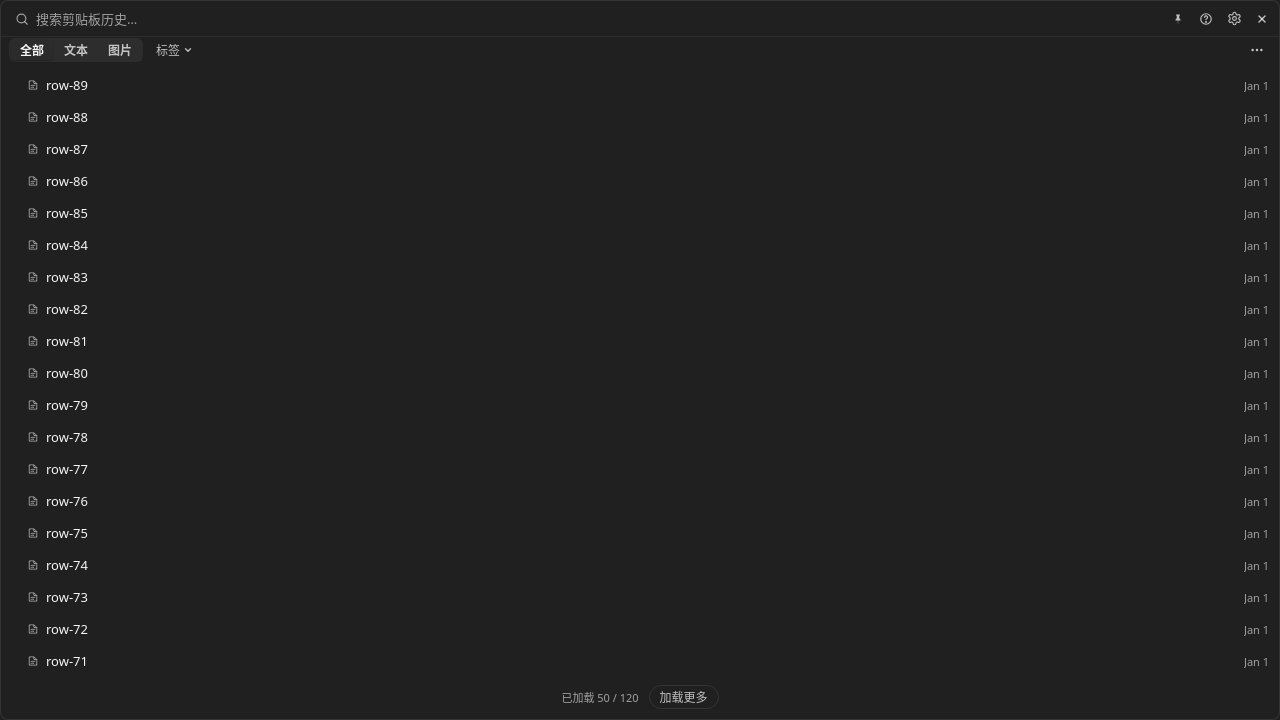
live history list › restarts an in-flight next page at the updated offset
(page scrolled)
Click the button "加载更多".
click(684, 697)  # box x1=649 y1=685 x2=719 y2=709
(page scrolled)
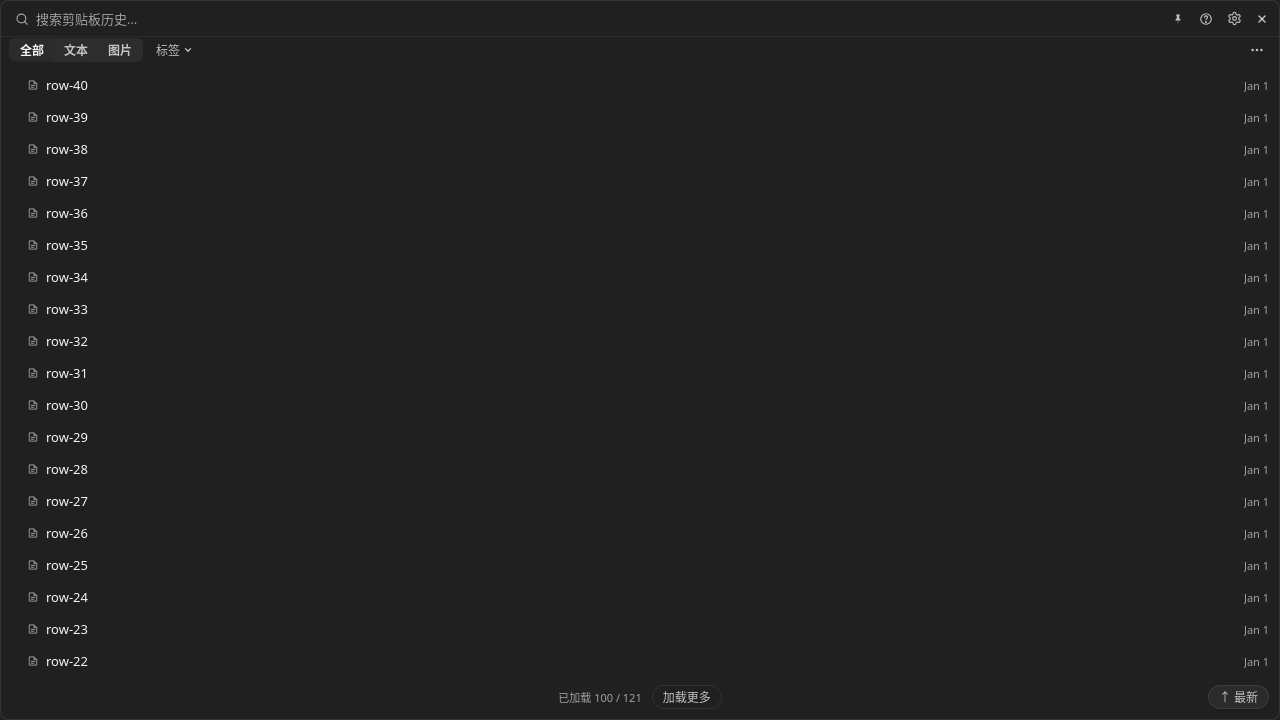
expect the text "已加载 100 / 121" is shown: met, box x1=558 y1=689 x2=642 y2=705
